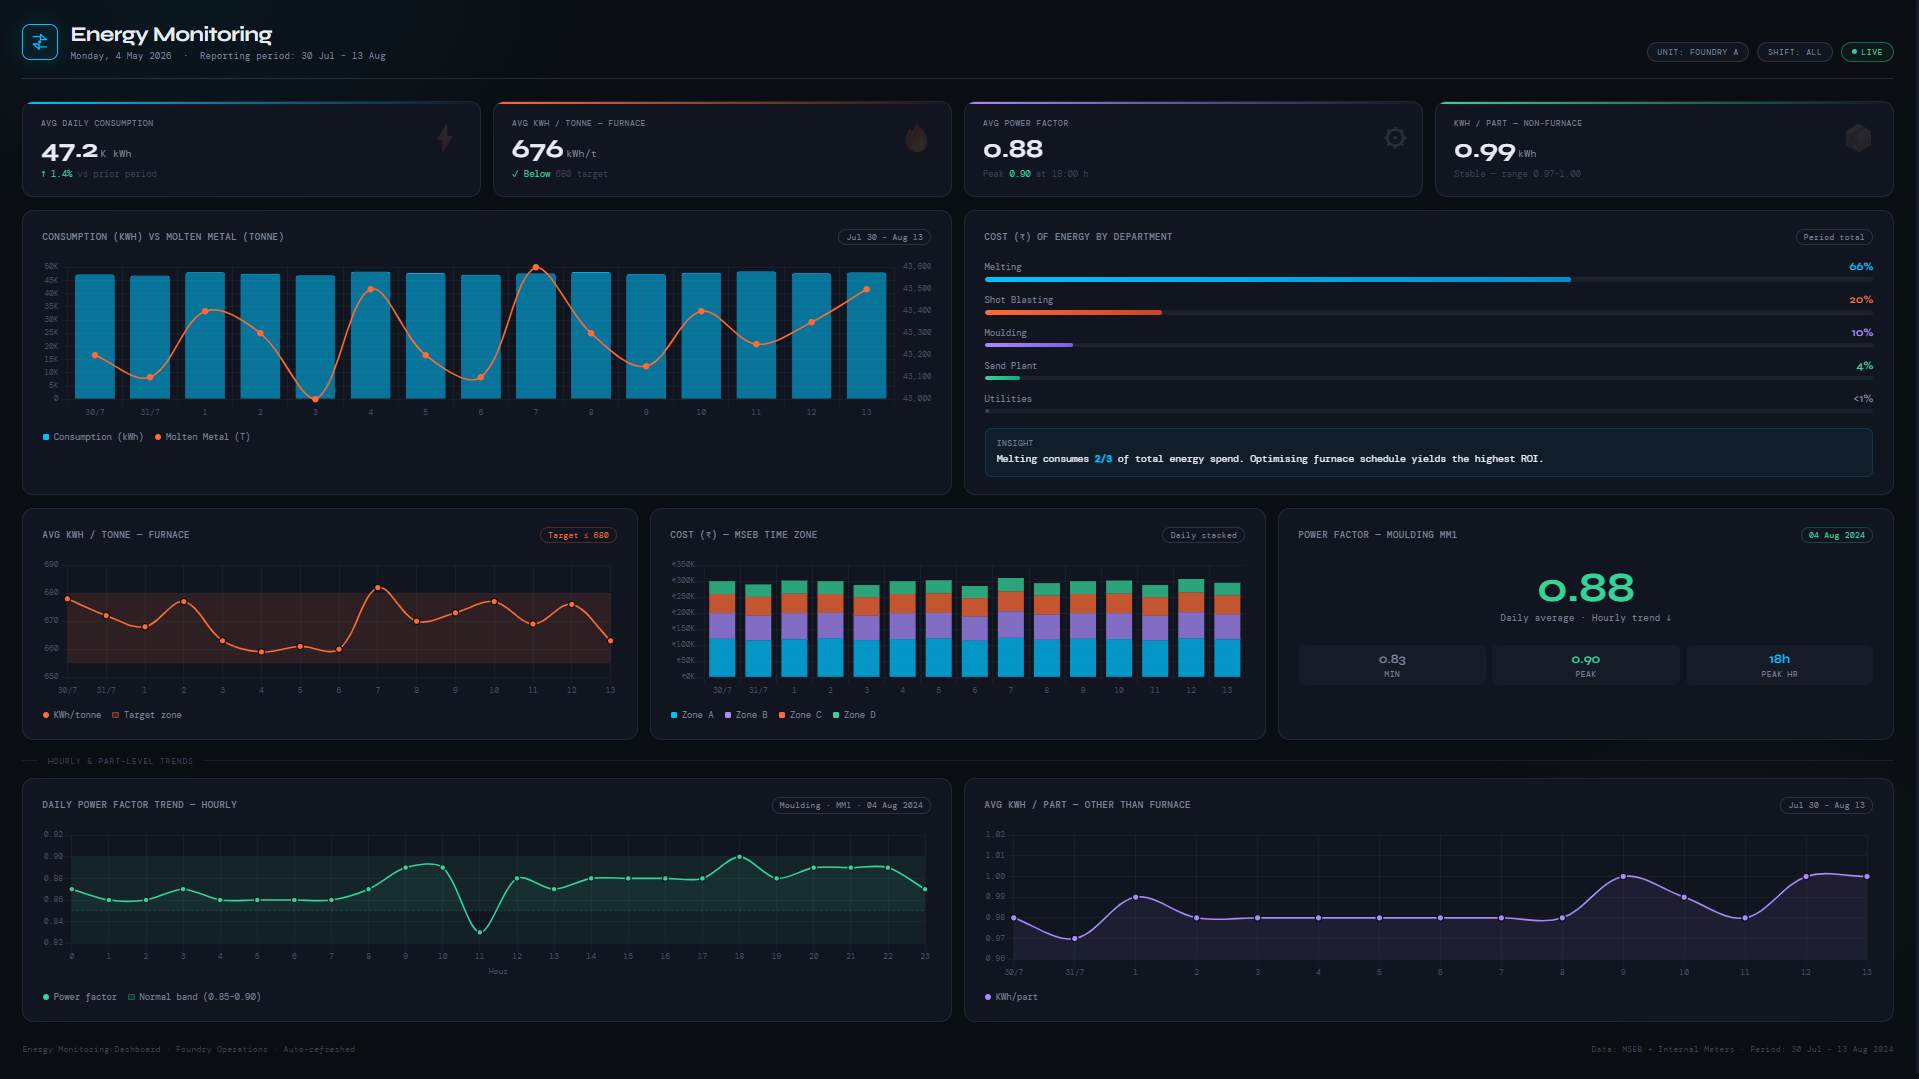

What the dashboard file says about the page in this screenshot:
{"tool":"powerbi","page":{"name":"Energy Monitoring","canvas":[1280,720],"ordinal":0},"visuals":[{"type":"shape","title":"DB BG","box":[0,0,1280.4,720],"z":0},{"type":"hundredPercentStackedBarChart","title":"     Cost ( ₹ ) of Energy by Department ","fields":{"Y":["Sum(EnergyMonitoring_Mastersheet.Cost of Energy)"],"Series":["EnergyMonitoring_Mastersheet.Department"]},"box":[744.2,75,485.3,210],"z":2000},{"type":"lineChart","title":"      Average KWH / Tonne (Furnace)","fields":{"Y":["EnergyMonitoring_Mastersheet.Above target","EnergyMonitoring_Mastersheet.KWH tonne"],"Category":["DimDate.Date.Variation.Date Hierarchy.Month","DimDate.Date.Variation.Date Hierarchy.Day"]},"box":[50.7,295.1,676.2,210],"z":3000},{"type":"lineChart","title":"     Average KWH / Part (Other than Furnace) ","fields":{"Y":["EnergyMonitoring_Mastersheet.KWH part"],"Category":["DimDate.Date.Variation.Date Hierarchy.Year","DimDate.Date.Variation.Date Hierarchy.Month","DimDate.Date.Variation.Date Hierarchy.Day"]},"box":[848.6,515,380.9,200],"z":4000},{"type":"columnChart","title":"     Cost ( ₹ ) wrt MSEB Time Zone","fields":{"Series":["EnergyMonitoring_Mastersheet.MSEB Zone"],"Y":["Sum(EnergyMonitoring_Mastersheet.Cost of Energy)"],"Category":["DimDate.Date.Variation.Date Hierarchy.Month","DimDate.Date.Variation.Date Hierarchy.Day"]},"box":[744.2,295,485.3,210],"z":5000},{"type":"lineClusteredColumnComboChart","title":"      Consumption (kWh) wrt Molten Metal ( Tonne )","fields":{"Category":["DimDate.Date.Variation.Date Hierarchy.Month","DimDate.Date.Variation.Date Hierarchy.Day"],"Y":["Sum(EnergyMonitoring_Mastersheet.Consumption)"],"Y2":["Sum(EnergyMonitoring_Mastersheet.Molten Metal)"]},"box":[51,75,675.7,210],"z":6000},{"type":"advancedSlicerVisual","fields":{"Values":["EnergyMonitoring_Mastersheet.MSEB Zone"]},"box":[1012.6,298.4,208.7,36.2],"z":7000},{"type":"lineChart","title":"      Daily Power Factor Trend","fields":{"Category":["EnergyMonitoring_Mastersheet.Hours"],"Y":["Sum(EnergyMonitoring_Mastersheet.P#F)"],"Series":["EnergyMonitoring_Mastersheet.Machine ID"]},"box":[50,515,785.2,200],"z":9000},{"type":"slicer","title":"Dept","fields":{"Values":["EnergyMonitoring_Mastersheet.Department"]},"box":[607.2,508.9,131.1,44],"z":10000},{"type":"slicer","title":"Date","fields":{"Values":["DimDate.Date"]},"box":[483,508.9,143.2,44],"z":11000},{"type":"actionButton","title":"Power Factor","box":[320,518.4,84.5,29.3],"z":12000},{"type":"actionButton","title":"Consumption","box":[406.3,518.4,85.4,28.5],"z":13000},{"type":"slicer","fields":{"Values":["EnergyMonitoring_Mastersheet.Machine ID"]},"box":[719.7,508.7,90.5,44.4],"z":14000},{"type":"advancedSlicerVisual","fields":{"Values":["Colors.Label.1"]},"box":[1159.6,19.9,69.7,38.9],"z":15000},{"type":"cardVisual","fields":{"Data":["Colors.current_date"]},"box":[50.9,5,380.4,56.9],"z":16001}]}

Visuals, with their boxes in screenshot pixels (x1, y1, x2, y2), scaled from the page's 1280x720 canvas onto the 1919x1079 screenshot:
"DB BG" shape: 0,0,1918,1078
"     Cost ( ₹ ) of Energy by Department " hundredPercentStackedBarChart: 1116,112,1843,427
"      Average KWH / Tonne (Furnace)" lineChart: 76,442,1090,757
"     Average KWH / Part (Other than Furnace) " lineChart: 1272,772,1843,1072
"     Cost ( ₹ ) wrt MSEB Time Zone" columnChart: 1116,442,1843,757
"      Consumption (kWh) wrt Molten Metal ( Tonne )" lineClusteredColumnComboChart: 76,112,1089,427
advancedSlicerVisual - EnergyMonitoring_Mastersheet.MSEB Zone: 1518,447,1831,501
"      Daily Power Factor Trend" lineChart: 75,772,1252,1072
"Dept" slicer: 910,763,1107,829
"Date" slicer: 724,763,939,829
"Power Factor" actionButton: 480,777,606,821
"Consumption" actionButton: 609,777,737,820
slicer - EnergyMonitoring_Mastersheet.Machine ID: 1079,762,1215,829
advancedSlicerVisual - Colors.Label.1: 1738,30,1843,88
cardVisual - Colors.current_date: 76,7,647,93
